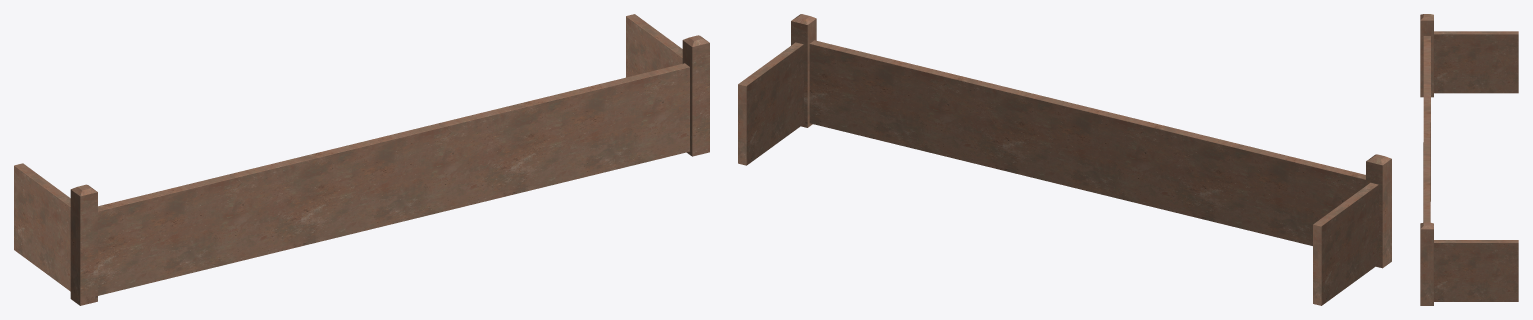
File: Exterior walls.fbx
3 views of the same model, side by side, from view 1: azimuth 30°, elevation 25°; view 2: azimuth 150°, elevation 25°; view 3: azimuth 270°, elevation 25° (orthographic). The views are drawn at different scales.
Parts seen in each view (by area): view 1: exterior walls; view 2: exterior walls; view 3: exterior walls.
Boxes of the visible parts, bbox=[...] form: exterior walls: bbox=[14, 14, 709, 305]; exterior walls: bbox=[738, 14, 1391, 305]; exterior walls: bbox=[1420, 14, 1518, 305].
Bounding box in the file's own units: 8302 × 1421 × 1609.
Materials: 1 (1 with a texture image).
